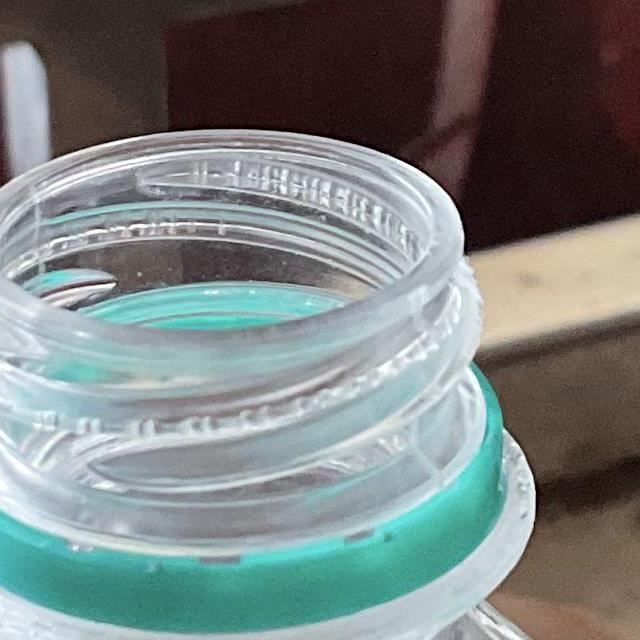open-cap: (0, 123, 478, 538)
